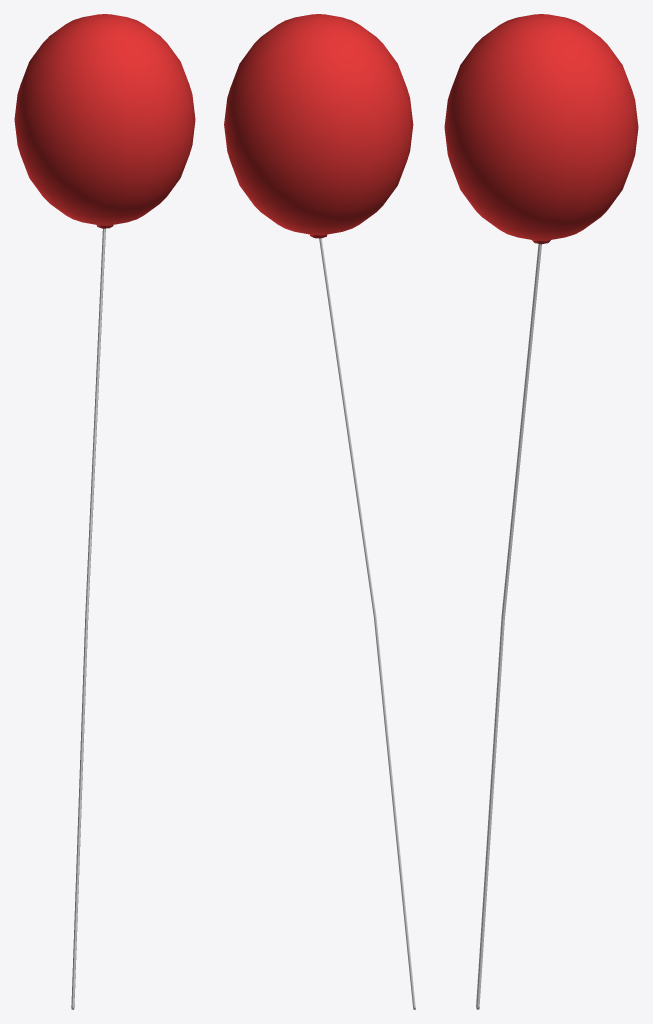
Rendered from SM_Partygoer_Balloon.fbx.
3 renders of one model, left to right at view 1: azimuth 30°, elevation 25°; view 2: azimuth 150°, elevation 25°; view 3: azimuth 270°, elevation 25°, orthographic. The views are drawn at different scales.
Parts seen in each view (by area): view 1: SM_Partygoer_Balloon; view 2: SM_Partygoer_Balloon; view 3: SM_Partygoer_Balloon.
Boxes of the visible parts, x1=… form: SM_Partygoer_Balloon: x1=14, y1=14, x2=195, y2=1009; SM_Partygoer_Balloon: x1=224, y1=14, x2=415, y2=1009; SM_Partygoer_Balloon: x1=444, y1=14, x2=638, y2=1009.
Size of the model in its own units: 30.4 by 176 by 30.4.
